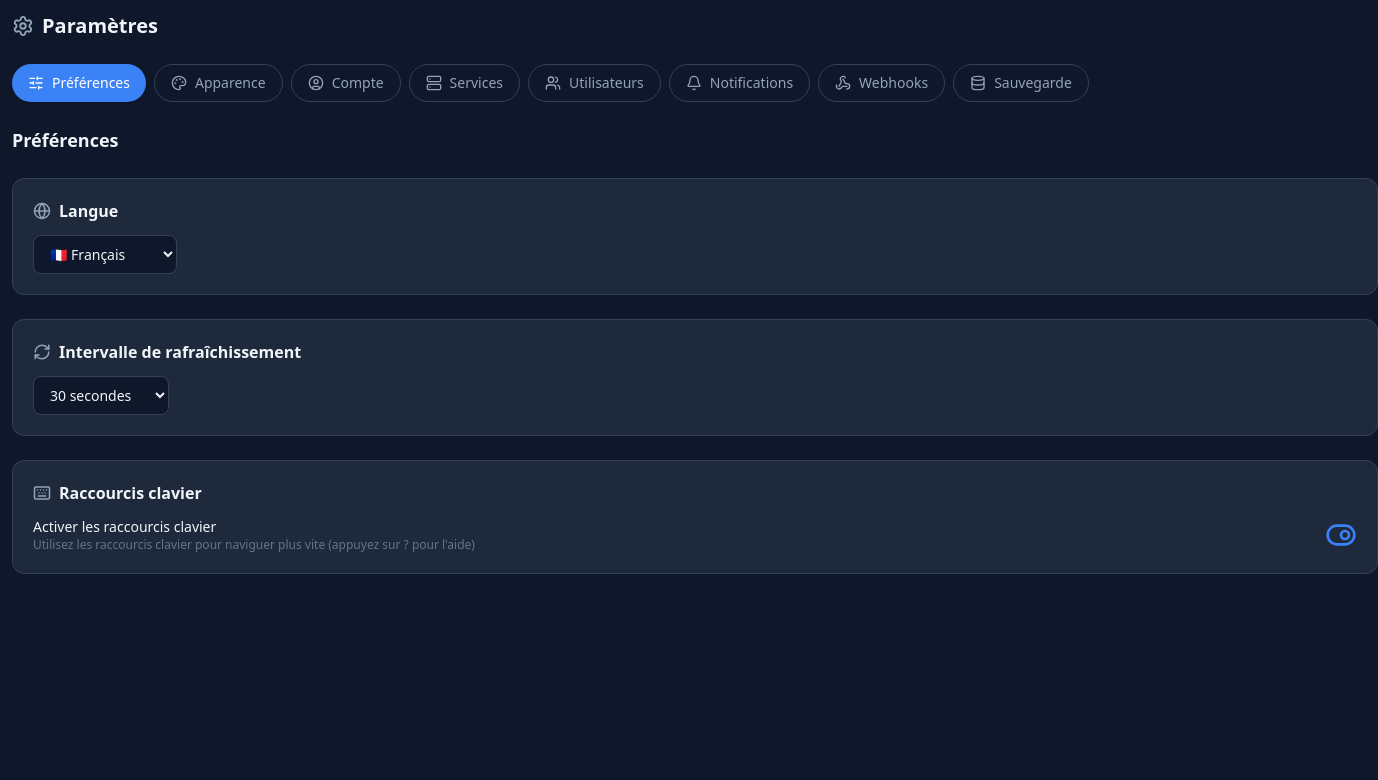
SettingsPage › has services section in services tab
The image size is (1378, 780).
What coordinates should you click on to do the following:
click the button with test id "settings-pill-services"
I would click on:
 (464, 83)
Its box is [409,64,520,102].
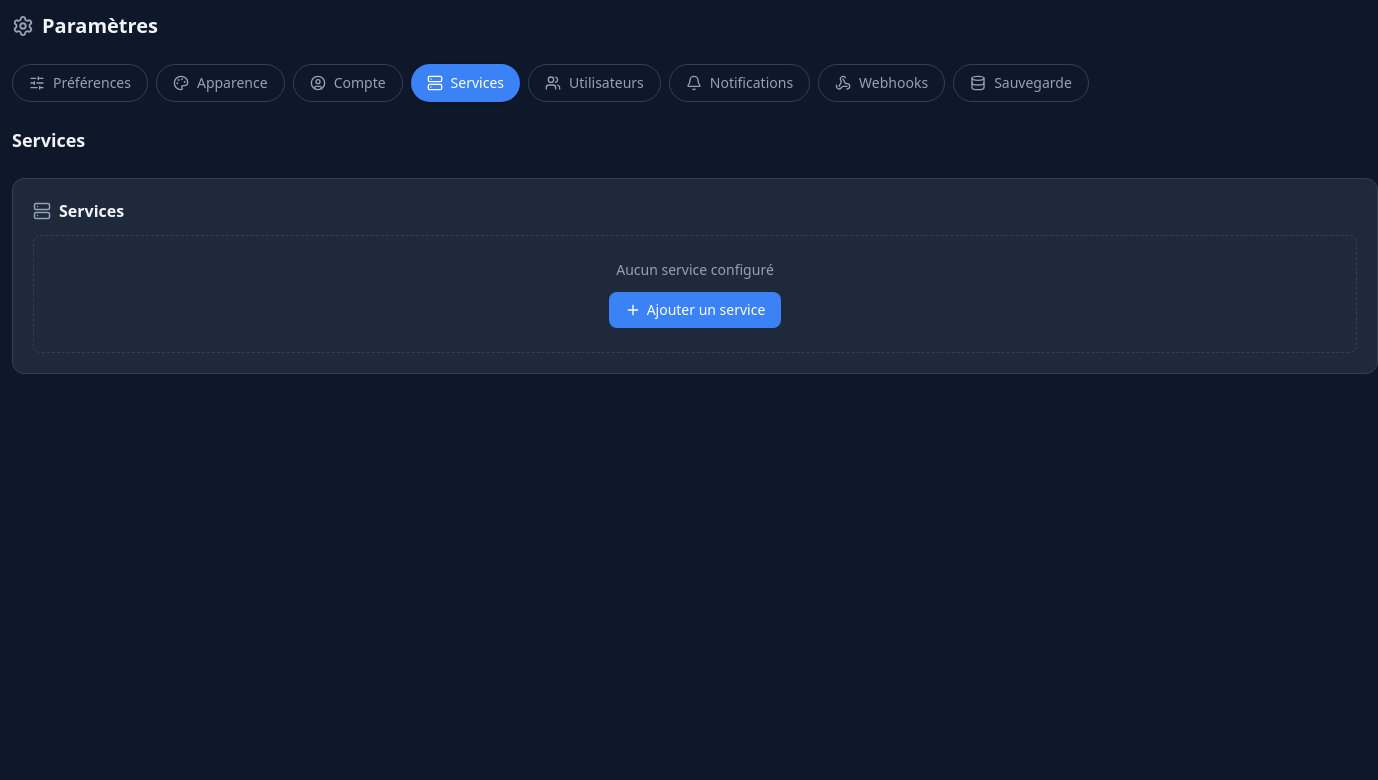
Now the element with test id "settings-services" is shown, box [12,178,1377,374]
